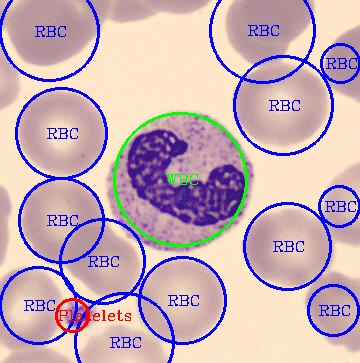Platelets: (62, 295, 100, 333)
RBC: (231, 60, 330, 149), (15, 86, 108, 176), (134, 256, 227, 345), (239, 205, 336, 289), (19, 175, 106, 265), (5, 0, 97, 68), (64, 221, 140, 297), (225, 0, 313, 65), (0, 264, 61, 349), (302, 267, 358, 351), (77, 322, 174, 362), (320, 157, 359, 249), (236, 0, 317, 43), (321, 21, 358, 102)
WBC: (108, 108, 255, 251)
